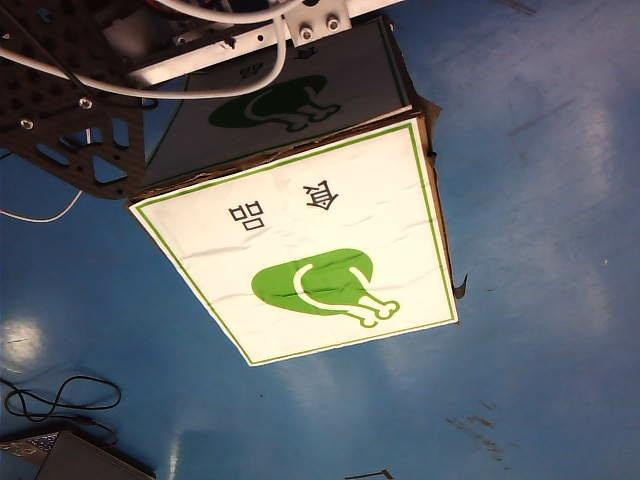Cube_food: (219, 174, 411, 335)
